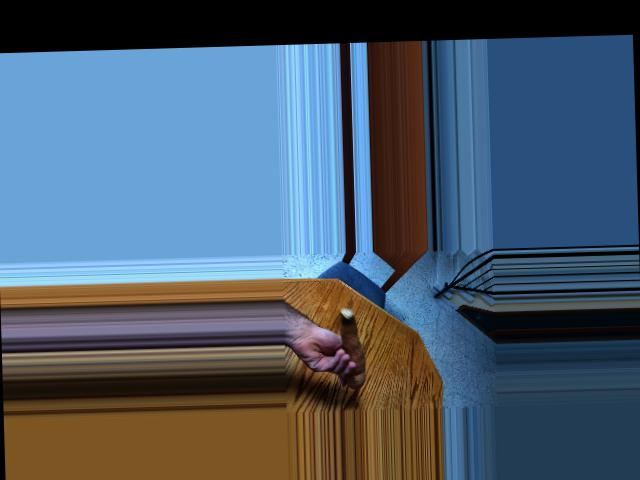sweet_potato: (331, 310, 369, 390)
